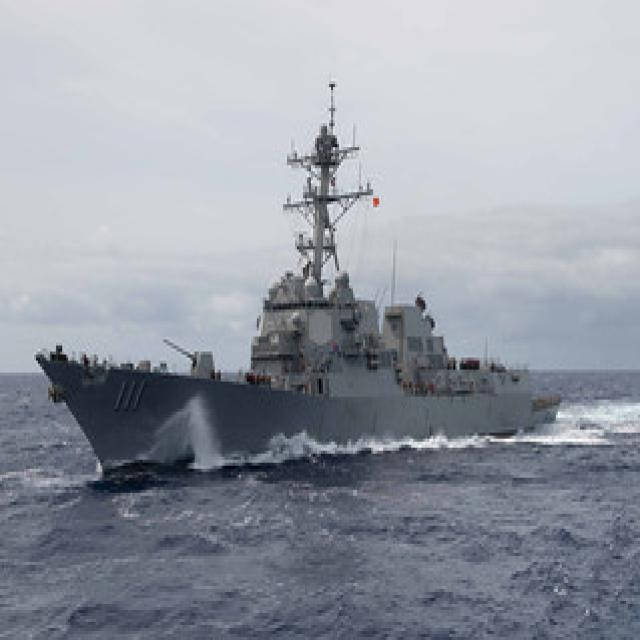navalvessels: (14, 101, 581, 502)
